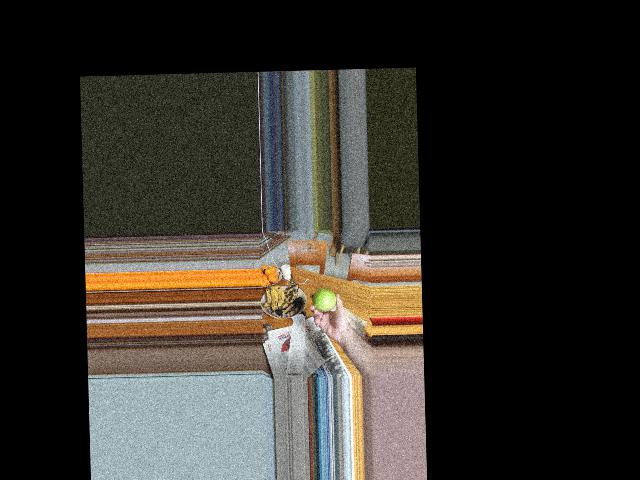apple: (312, 284, 336, 312)
